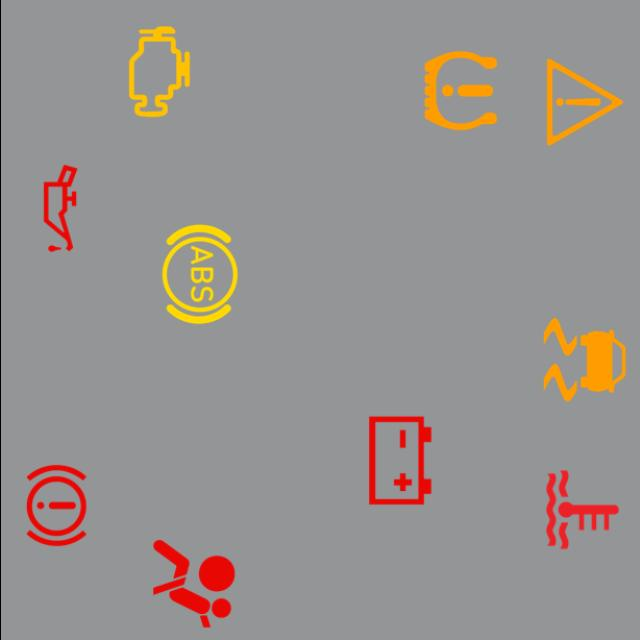Anti Lock Braking System: (145, 220, 253, 328)
Braking System Issue: (1, 451, 109, 560)
Charging System Issue: (345, 406, 453, 515)
Check Engine: (104, 18, 212, 126)
Electronic Stability Problem -ESP-: (530, 305, 638, 414)
Engine Overheating Warning Light: (528, 455, 636, 564)
Low Engine Oil Warning Light: (5, 154, 114, 262)
Low Tire Pressure Warning Light: (406, 36, 514, 144)
Master warning light: (530, 48, 638, 156)
SRS-Airbag: (139, 529, 247, 638)
